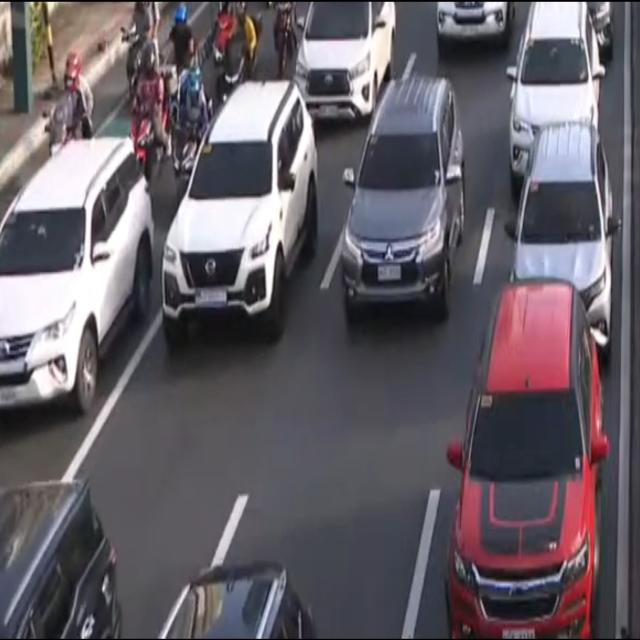Motorcycle: (49, 45, 100, 153), (172, 64, 214, 194), (131, 47, 169, 177), (123, 0, 164, 88), (163, 5, 205, 89), (220, 8, 256, 100), (210, 0, 238, 77), (273, 0, 300, 76)
SUV: (406, 272, 618, 640), (156, 69, 319, 372), (0, 128, 153, 434), (337, 65, 476, 332), (502, 114, 629, 360), (503, 0, 600, 181), (296, 0, 400, 138)
